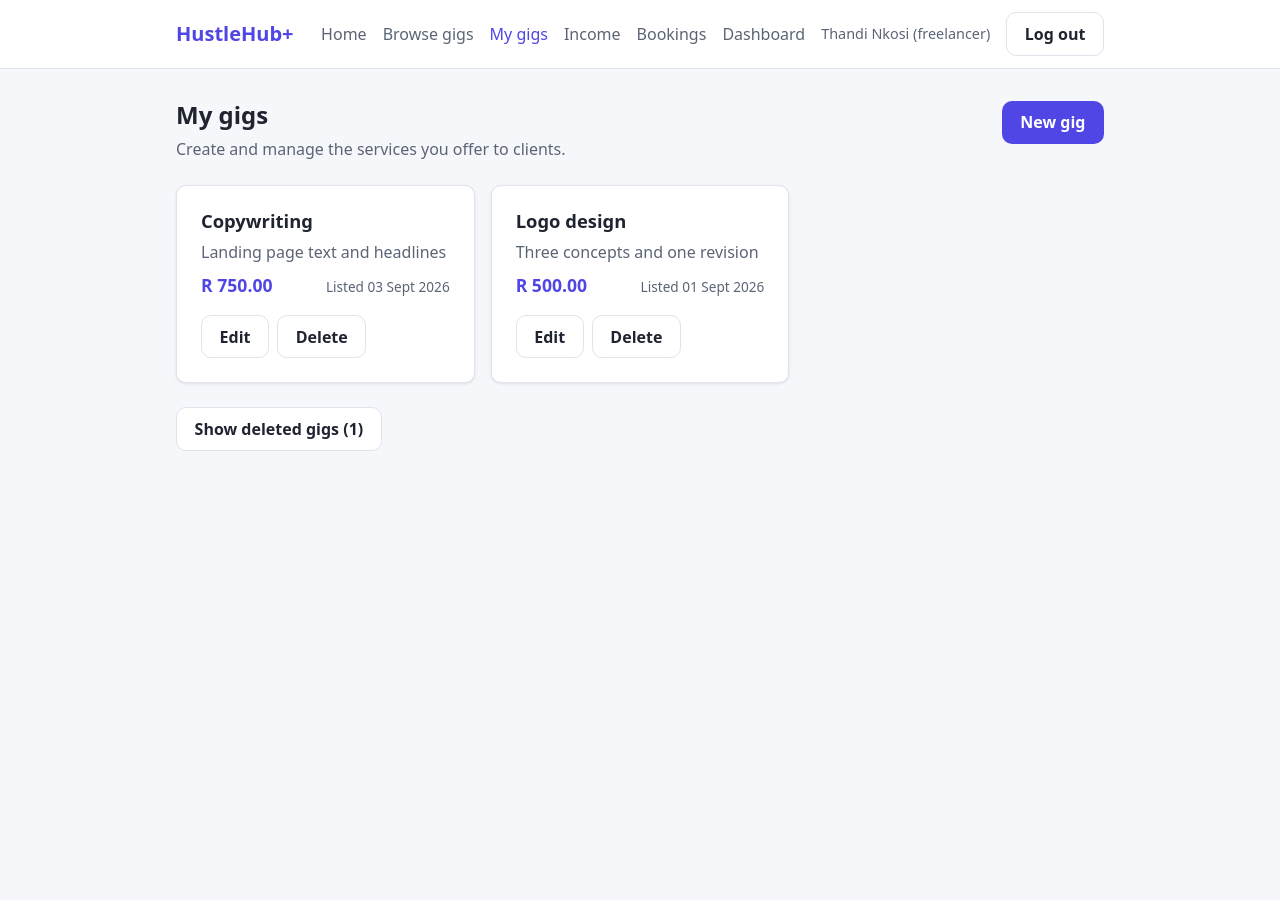
it: MyGigsPage › managing gigs › creates a gig and puts it at the top of the list
Click the button "New gig" at {"x": 1053, "y": 122}, box [1002,101,1104,144]
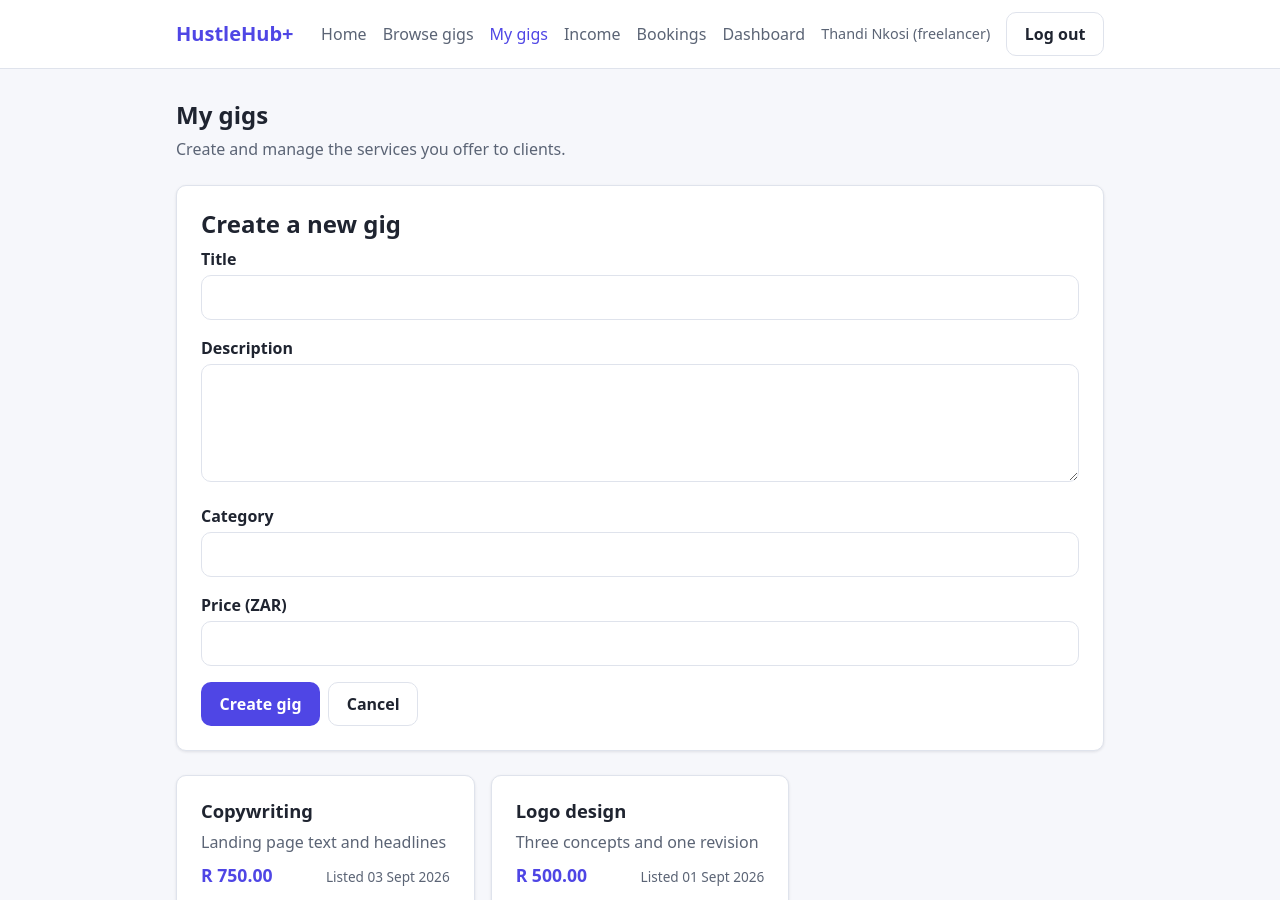
Type "Brand identity" into the field labelled "Title" at {"x": 640, "y": 298}, box [201,275,1079,320]
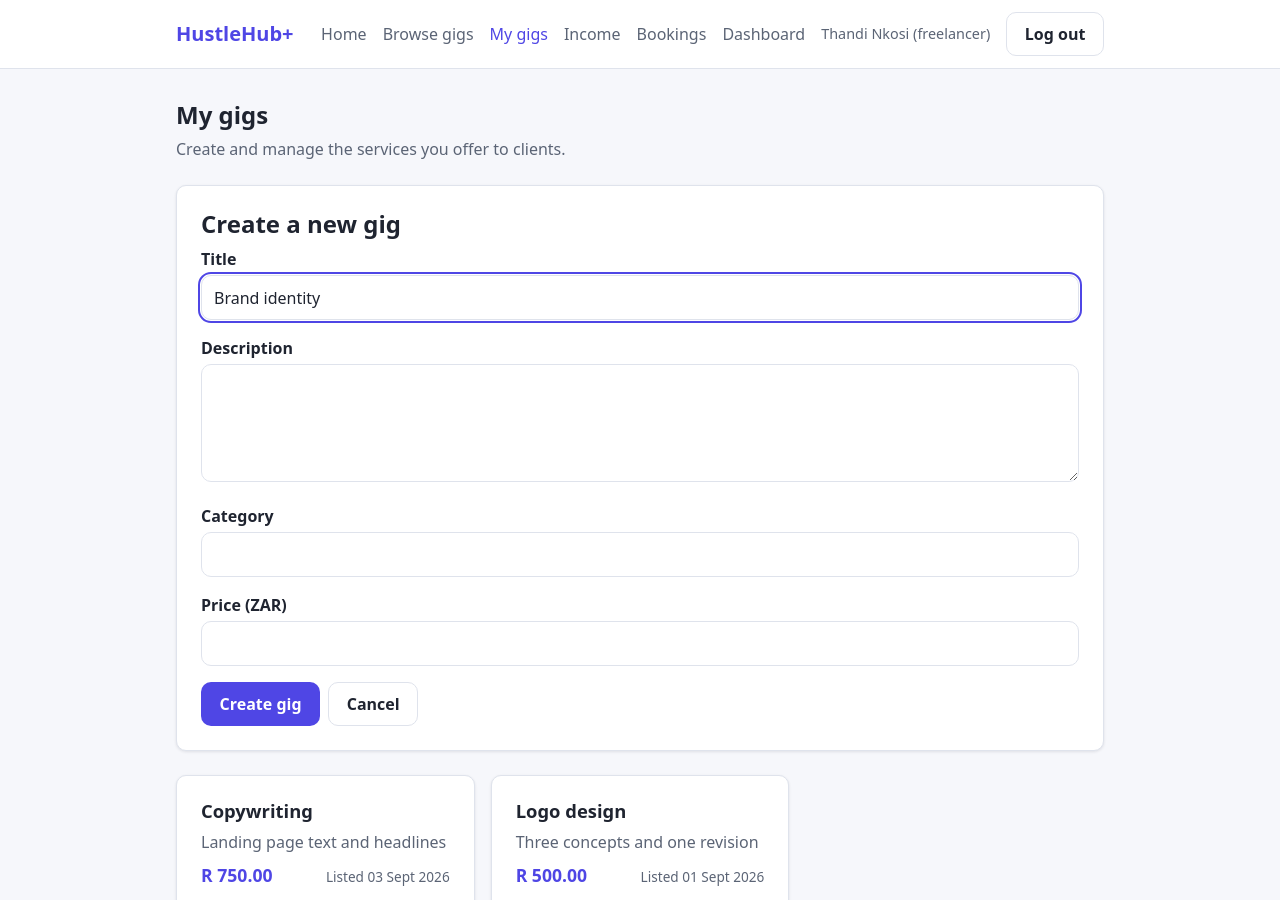
Type "Logo, colours and fonts for a new business" into the text box labelled "Description" at {"x": 640, "y": 423}, box [201,364,1079,482]
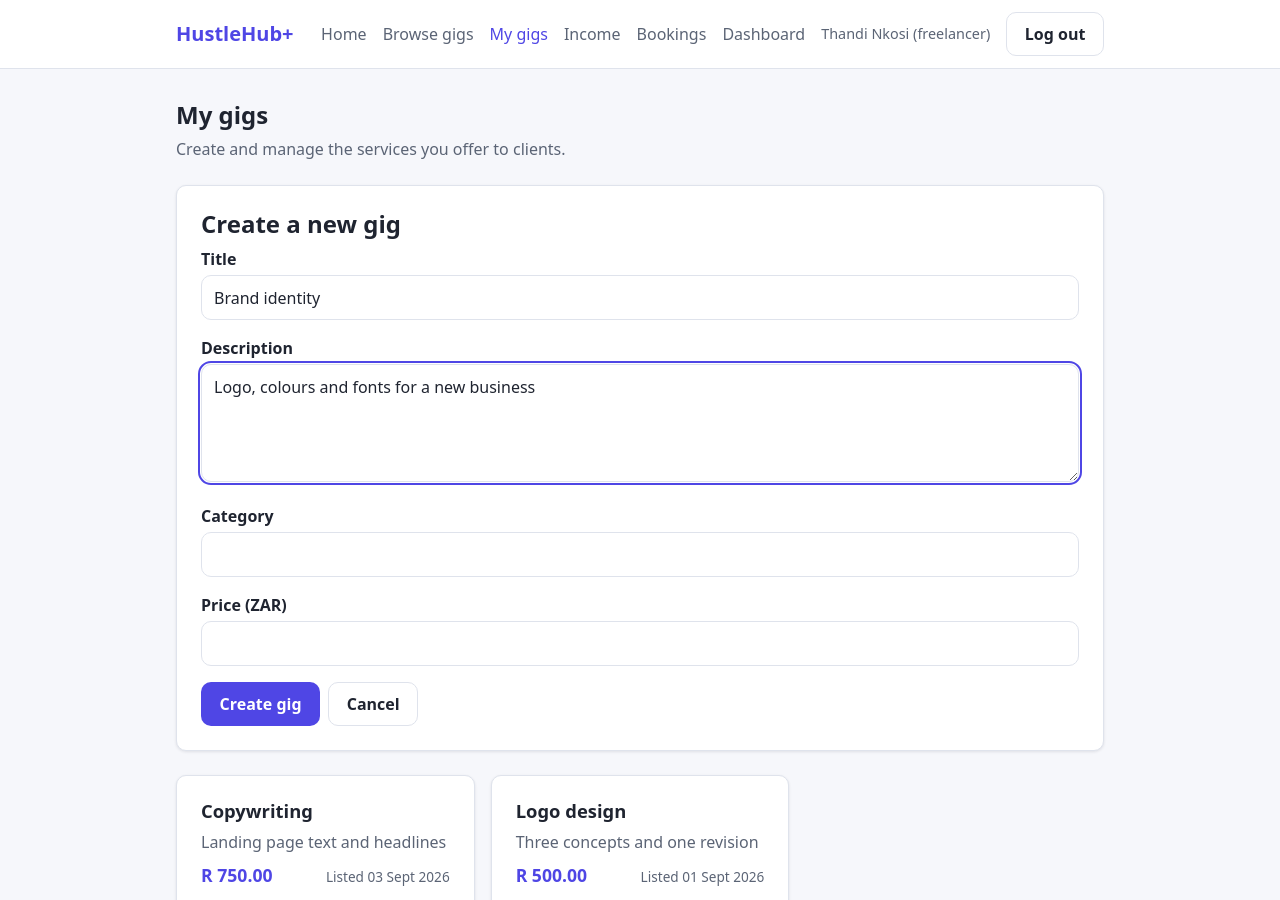
Type "Design" into the field labelled "Category" at {"x": 640, "y": 554}, box [201,532,1079,577]
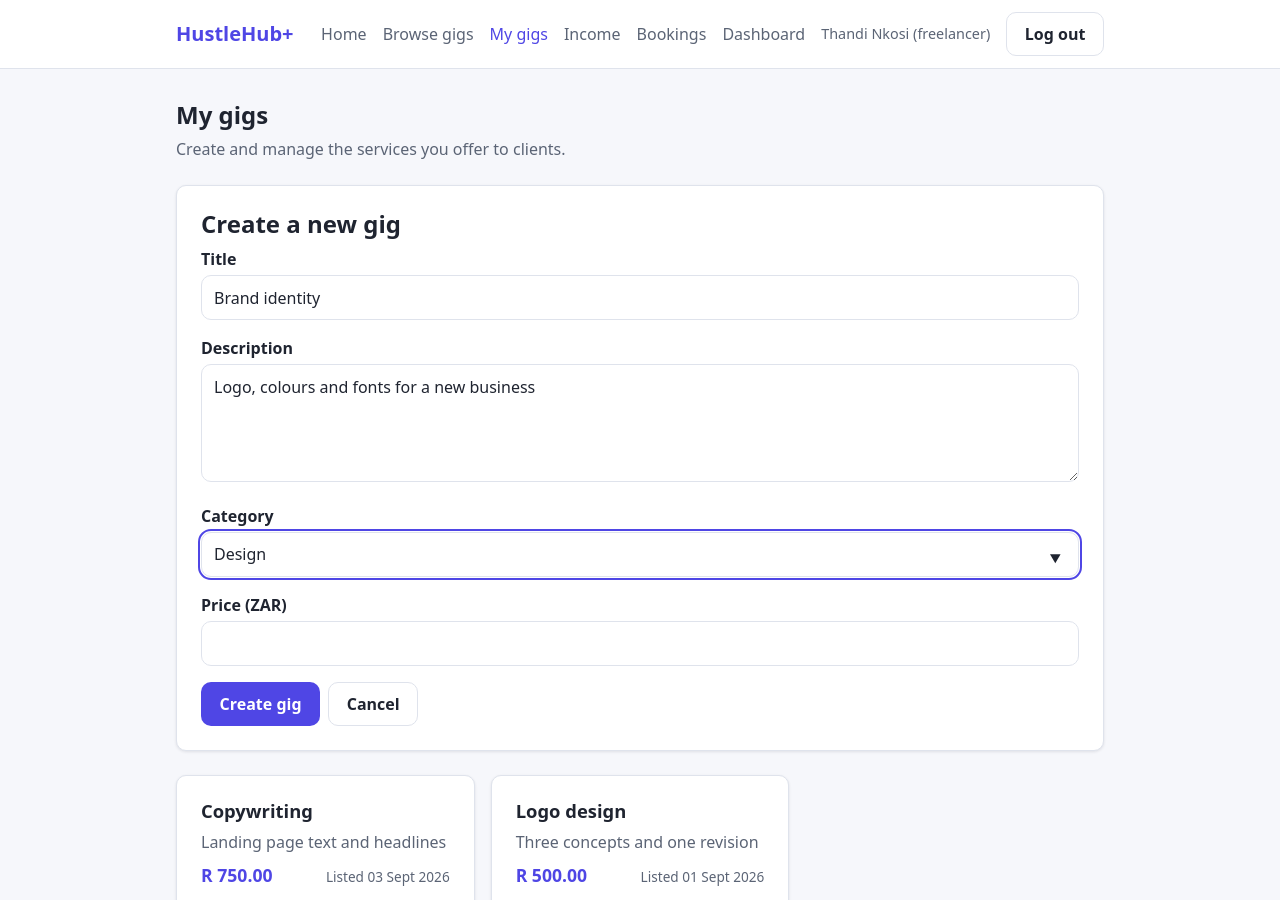
Type "1200" into the number field labelled "Price (ZAR)" at {"x": 640, "y": 643}, box [201,621,1079,666]
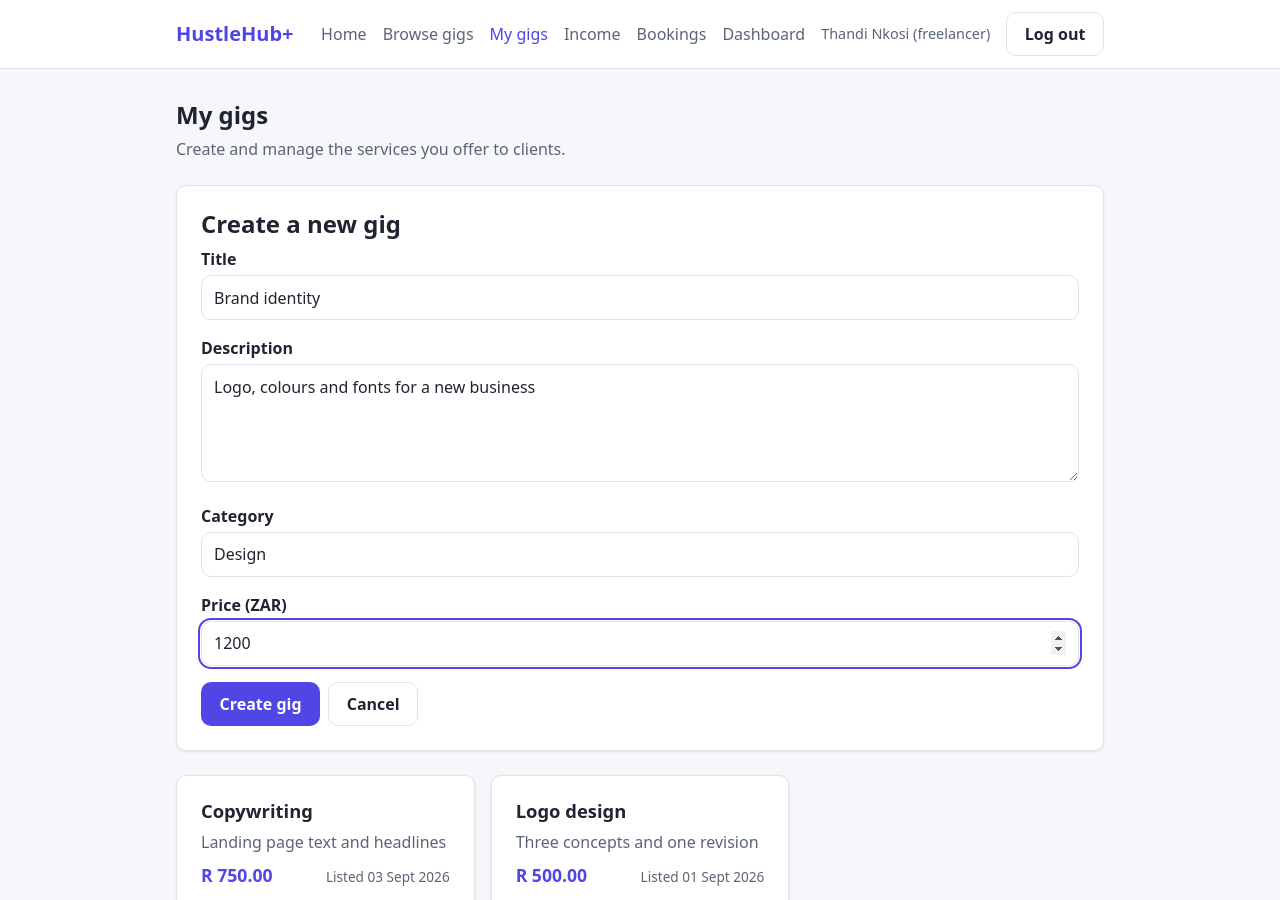
Click the button "Create gig" at {"x": 261, "y": 704}, box [201,682,320,726]
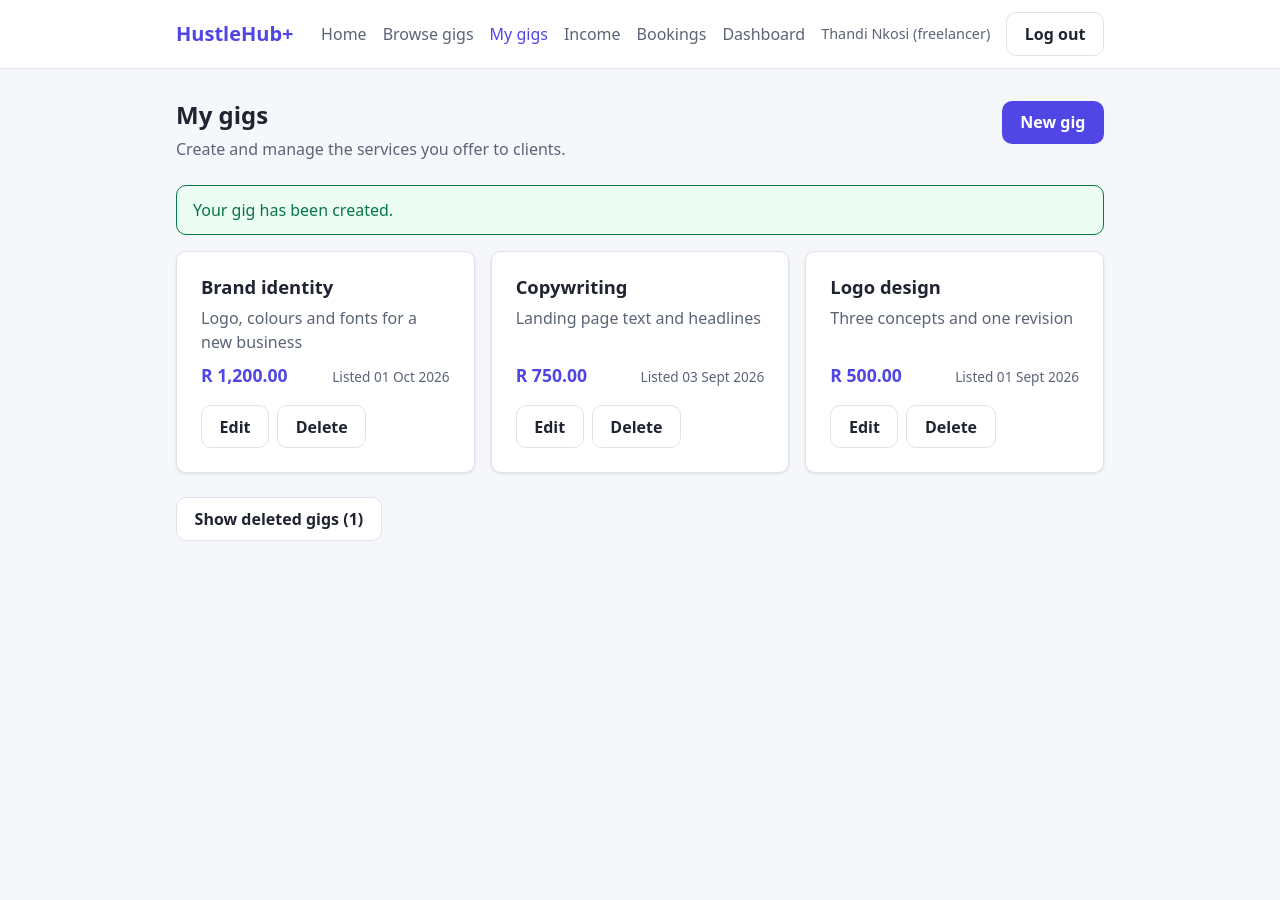
Check: the message reads "Your gig has been created.", box [193,199,393,221]
Check: the heading "Create a new gig" is gone
